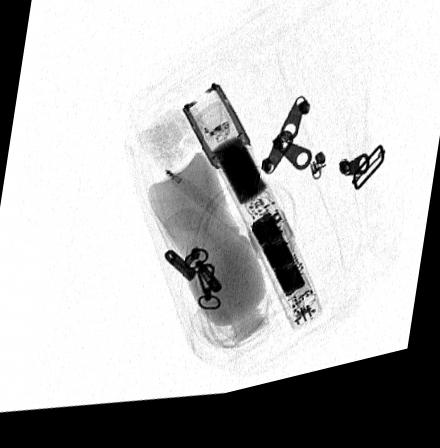Baton: (180, 92, 325, 344)
